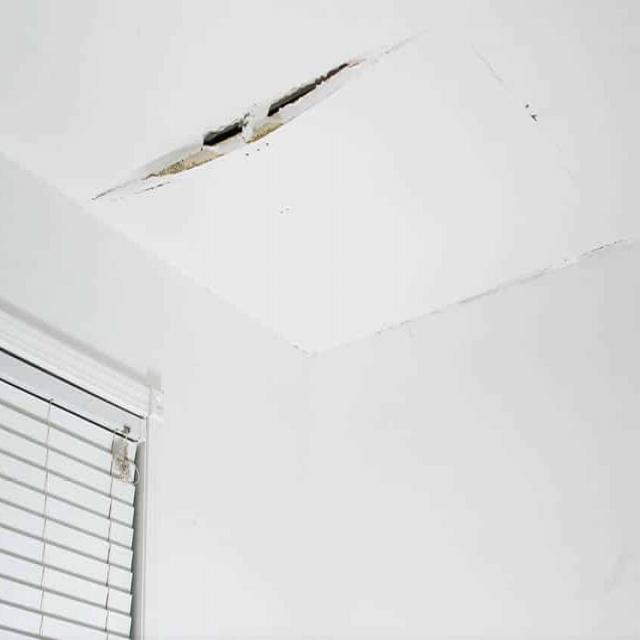Crack: (82, 18, 420, 208), (473, 39, 537, 126)
